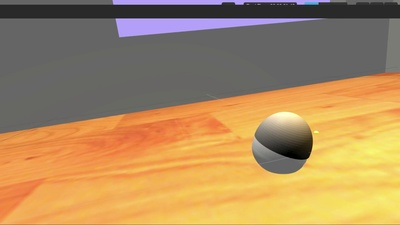mira_robot: (252, 111, 314, 174)
